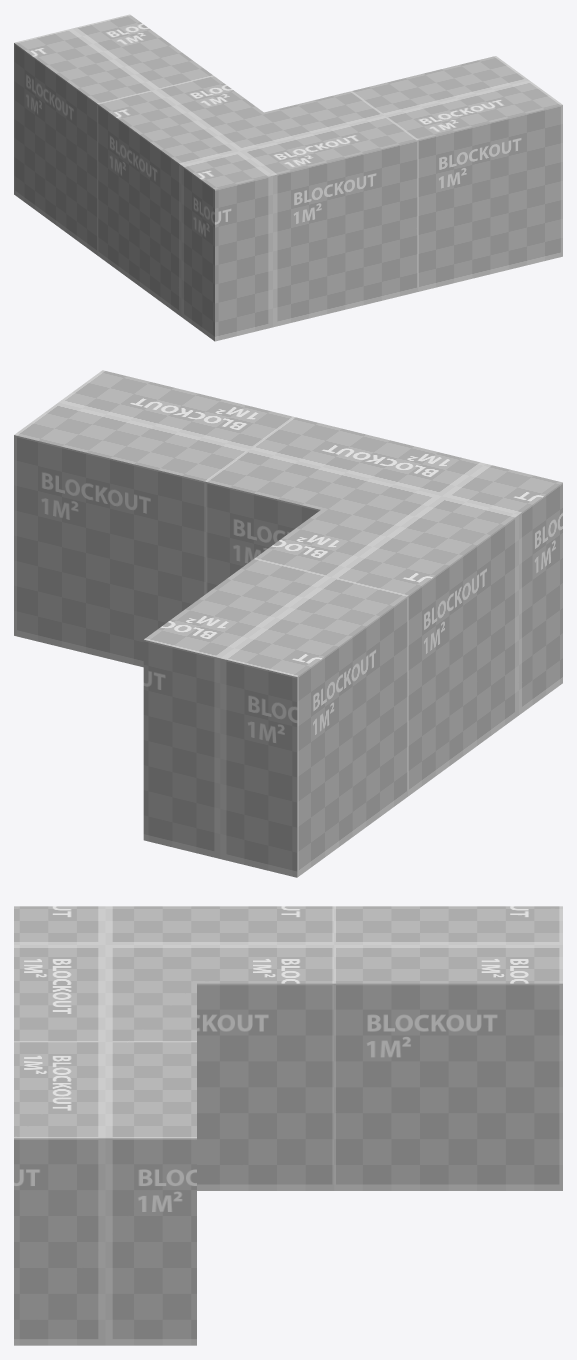
The model's file is BlockoutEdgeFullThickJunctionTwoWay.fbx.
The picture shows the model from 3 angles, top to bottom: view 1: azimuth 30°, elevation 25°; view 2: azimuth 150°, elevation 25°; view 3: azimuth 270°, elevation 25°; orthographic projection. The views are drawn at different scales.
Parts seen in each view (by area): view 1: BlockoutEdgeFullThickJunctionTwoWay; view 2: BlockoutEdgeFullThickJunctionTwoWay; view 3: BlockoutEdgeFullThickJunctionTwoWay.
Part boxes in pixels (<box>): BlockoutEdgeFullThickJunctionTwoWay: <box>14,14,562,341</box>; BlockoutEdgeFullThickJunctionTwoWay: <box>14,370,562,877</box>; BlockoutEdgeFullThickJunctionTwoWay: <box>14,906,562,1345</box>.
Size of the model in its own units: 240 by 100 by 240.
